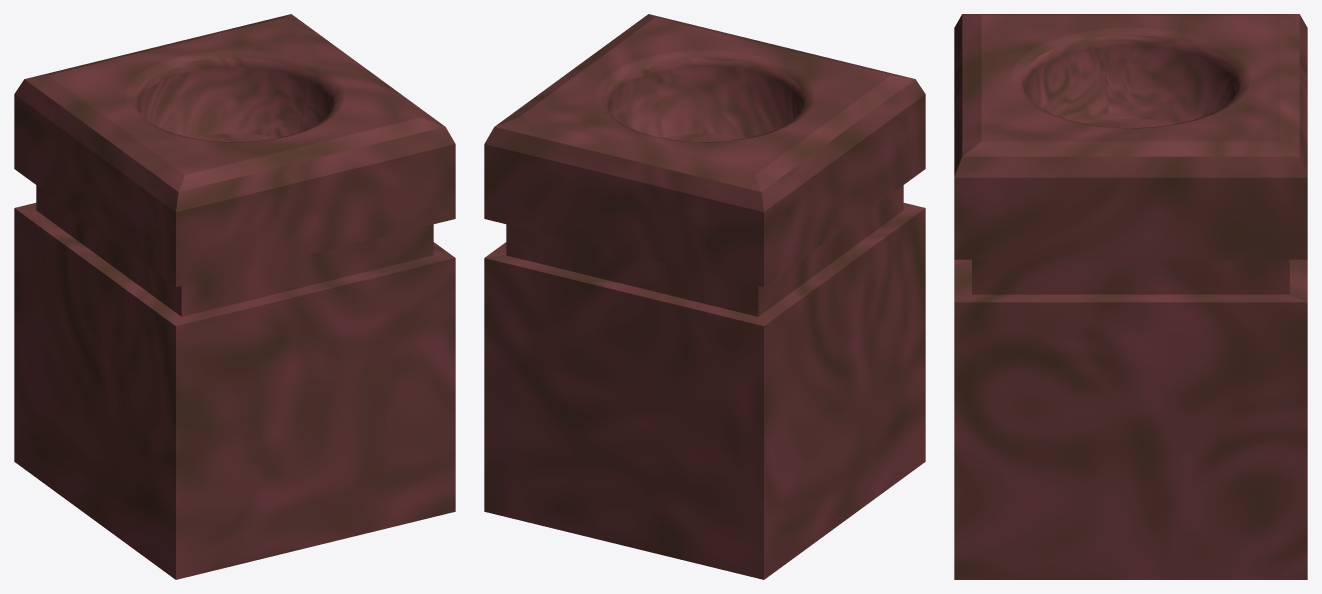
File: piece_1100.obj
3 renders of one model, left to right at view 1: azimuth 30°, elevation 25°; view 2: azimuth 150°, elevation 25°; view 3: azimuth 270°, elevation 25°, orthographic. The views are drawn at different scales.
Visible parts, largest first — view 1: bssh_Cube.010; view 2: bssh_Cube.010; view 3: bssh_Cube.010.
Part boxes in pixels (x1=…): bssh_Cube.010: x1=14, y1=14, x2=455, y2=579; bssh_Cube.010: x1=484, y1=14, x2=925, y2=579; bssh_Cube.010: x1=954, y1=14, x2=1307, y2=579.
Size of the model in its own units: 0.15 by 0.2 by 0.15.
Materials: 1 (1 with a texture image).
